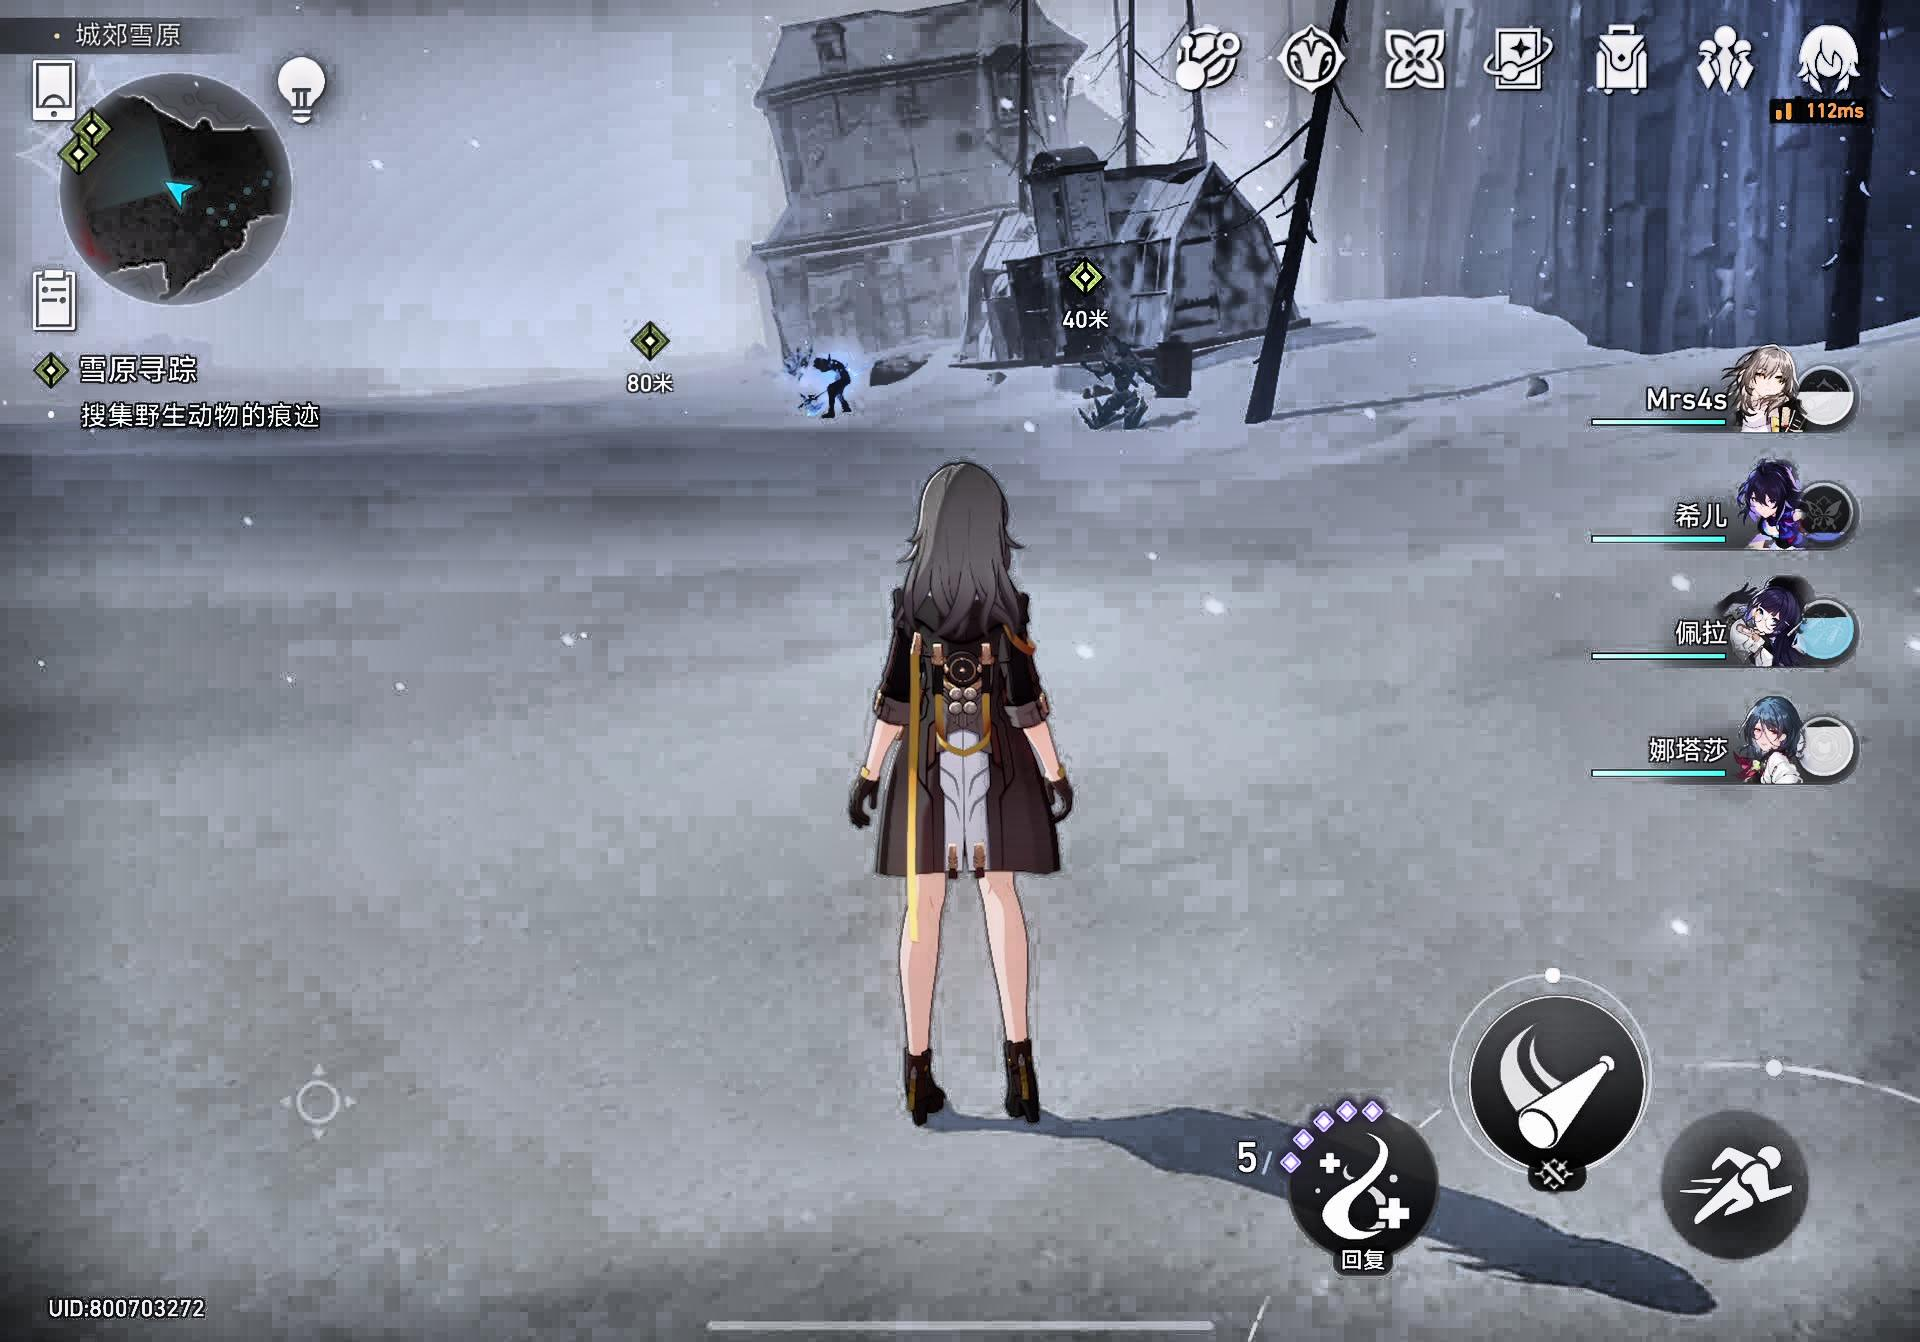Enemy: (792, 350, 862, 423)
Self: (852, 462, 1083, 1135)
